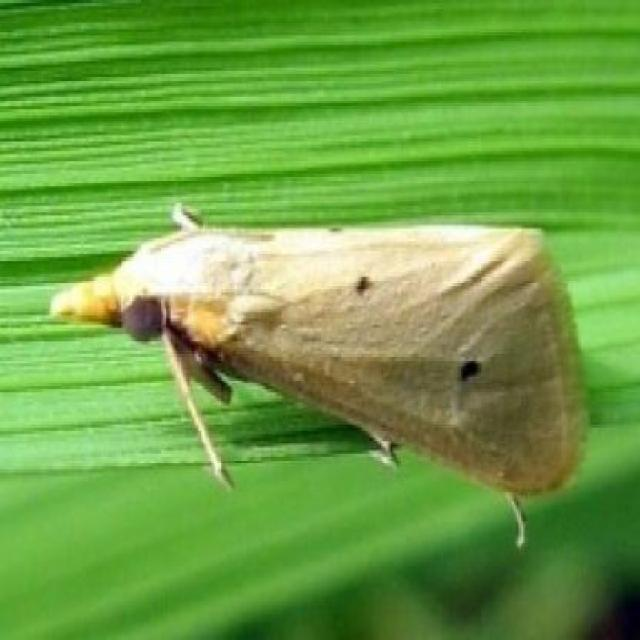stem-borer: (43, 215, 589, 514)
